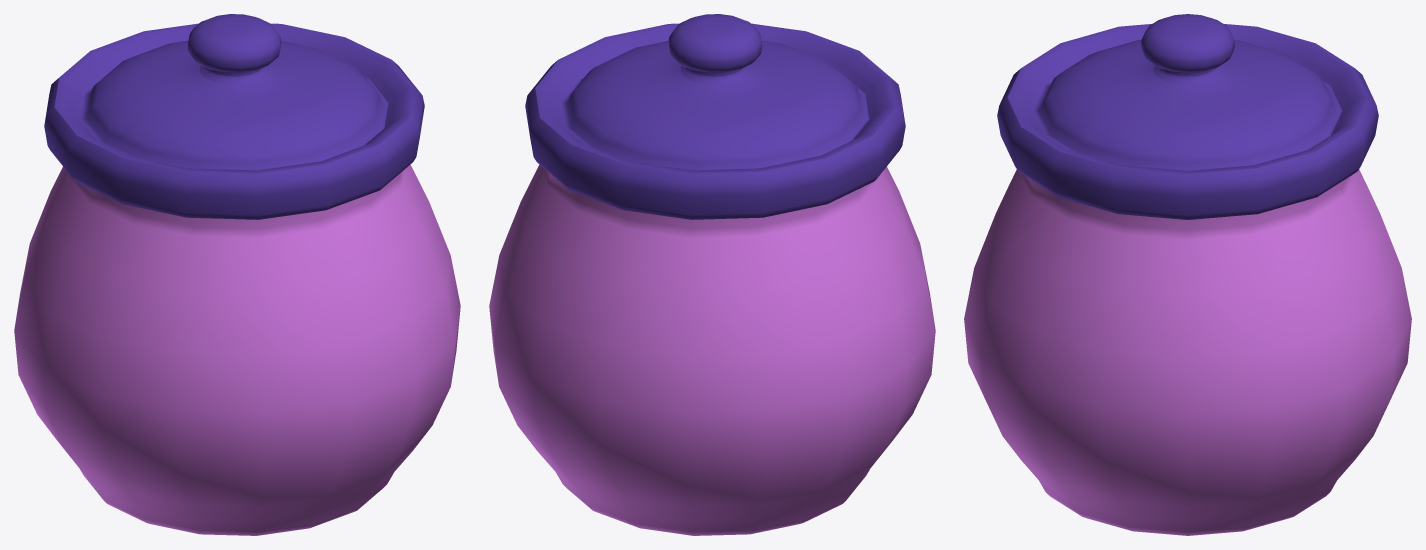
File: Friday_container.fbx
3 renders of one model, left to right at view 1: azimuth 30°, elevation 25°; view 2: azimuth 150°, elevation 25°; view 3: azimuth 270°, elevation 25°, orthographic.
Parts seen in each view (by area): view 1: Container, Lid; view 2: Container, Lid; view 3: Container, Lid.
Part boxes in pixels (left/top/right/bottom): Container: left=14, top=164, right=460, bottom=535; Lid: left=44, top=14, right=424, bottom=219; Container: left=489, top=164, right=935, bottom=535; Lid: left=525, top=14, right=905, bottom=219; Container: left=964, top=169, right=1411, bottom=535; Lid: left=997, top=14, right=1378, bottom=219.
Size of the model in its own units: 42.31 by 46.99 by 42.31.
